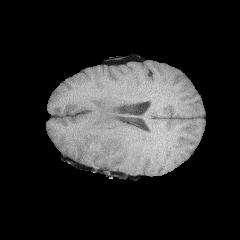glioma: (67, 98, 130, 170)
